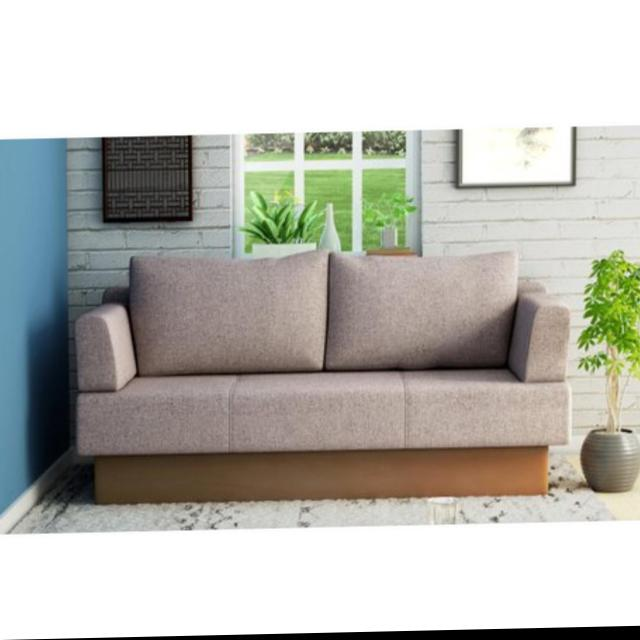Sofa: (71, 245, 571, 506)
